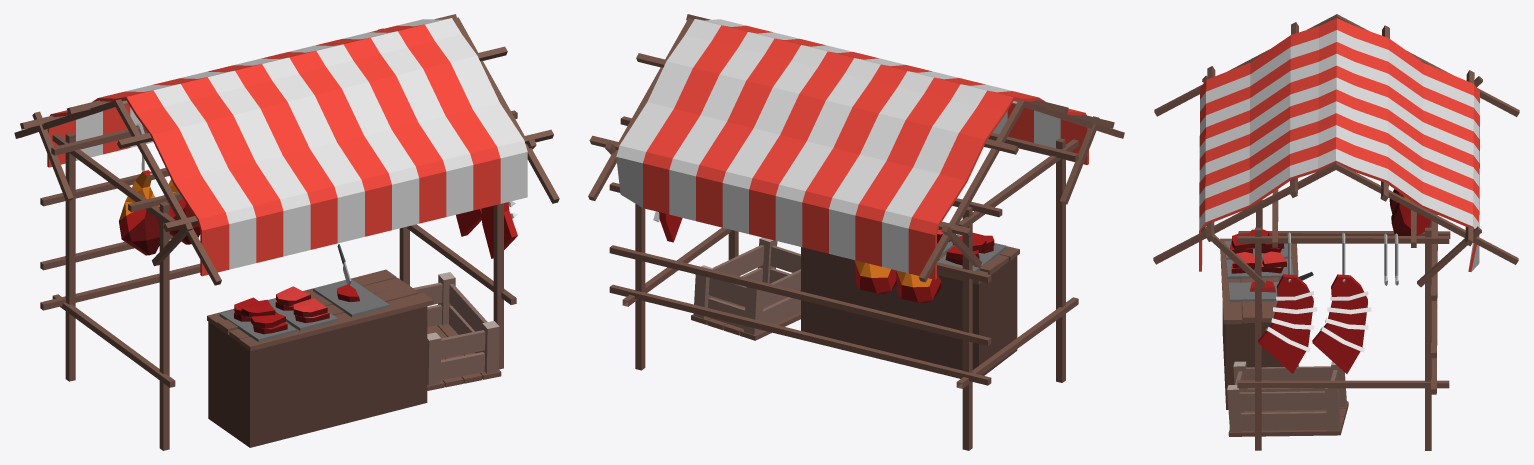
File: animal_015.glb
3 views of the same model, side by side, from view 1: azimuth 30°, elevation 25°; view 2: azimuth 150°, elevation 25°; view 3: azimuth 270°, elevation 25° (orthographic). The views are drawn at different scales.
Parts seen in each view (by area): view 1: animal_015; view 2: animal_015; view 3: animal_015.
Part boxes in pixels (left/top/right/bottom): animal_015: left=14, top=14, right=559, bottom=450; animal_015: left=588, top=14, right=1124, bottom=450; animal_015: left=1153, top=14, right=1519, bottom=450.
Size of the model in its own units: 7.23 by 5.68 by 6.58.
Materials: 1 (1 with a texture image).
